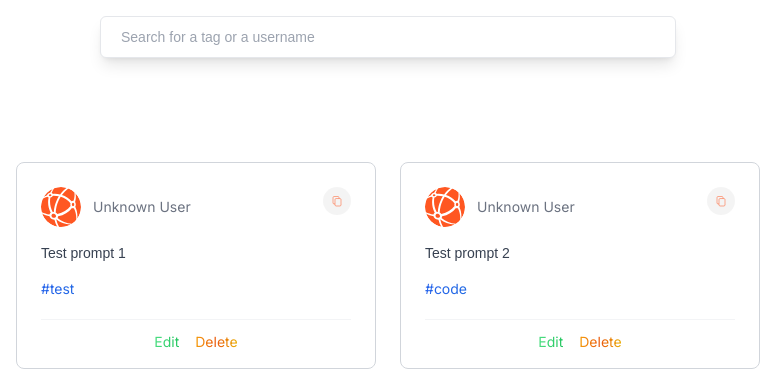
Feed Component › filters prompts based on search input
The image size is (777, 386).
Expected: the text "Test prompt 1" is shown, [41,245,126,261]
Expected: the text "Test prompt 2" is shown, [425,245,510,261]
Type "Alice" into the field with placeholder "Search for a tag or a username" at (388, 37), box [100,16,676,58]
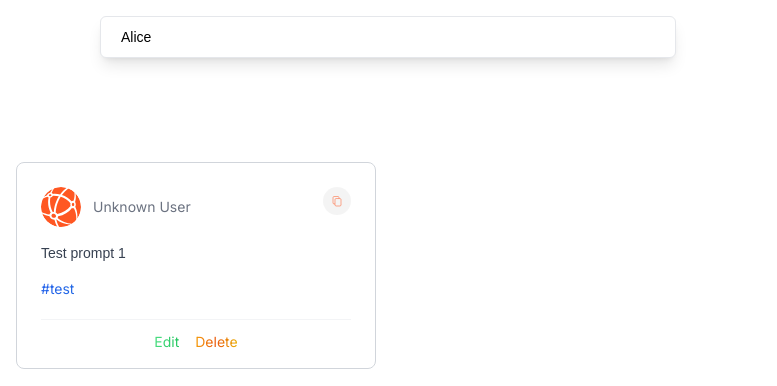
Expected: the text "Test prompt 1" is shown, [41,245,126,261]
Expected: the text "Test prompt 2" is gone
